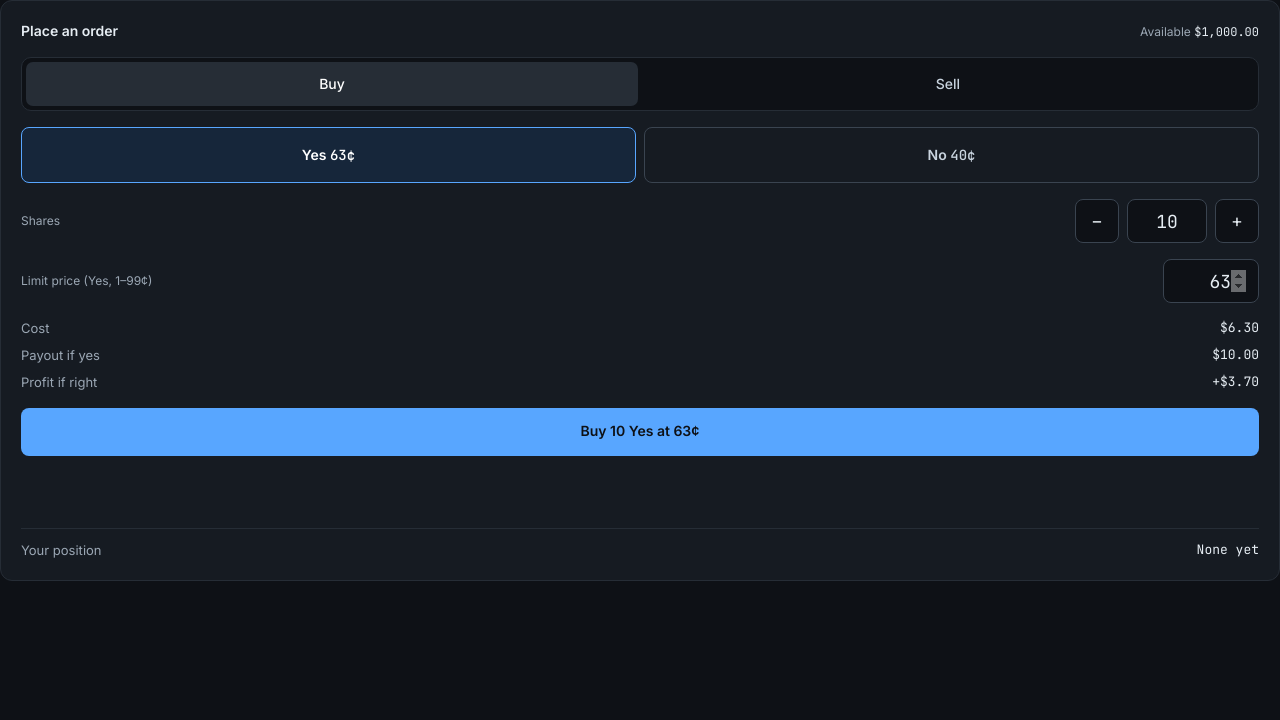
OrderTicket › switching to NO prices off the best bid (100 - 60)
Click the button with test id "ticket-side-no": x=952, y=155 [644,127,1259,183]
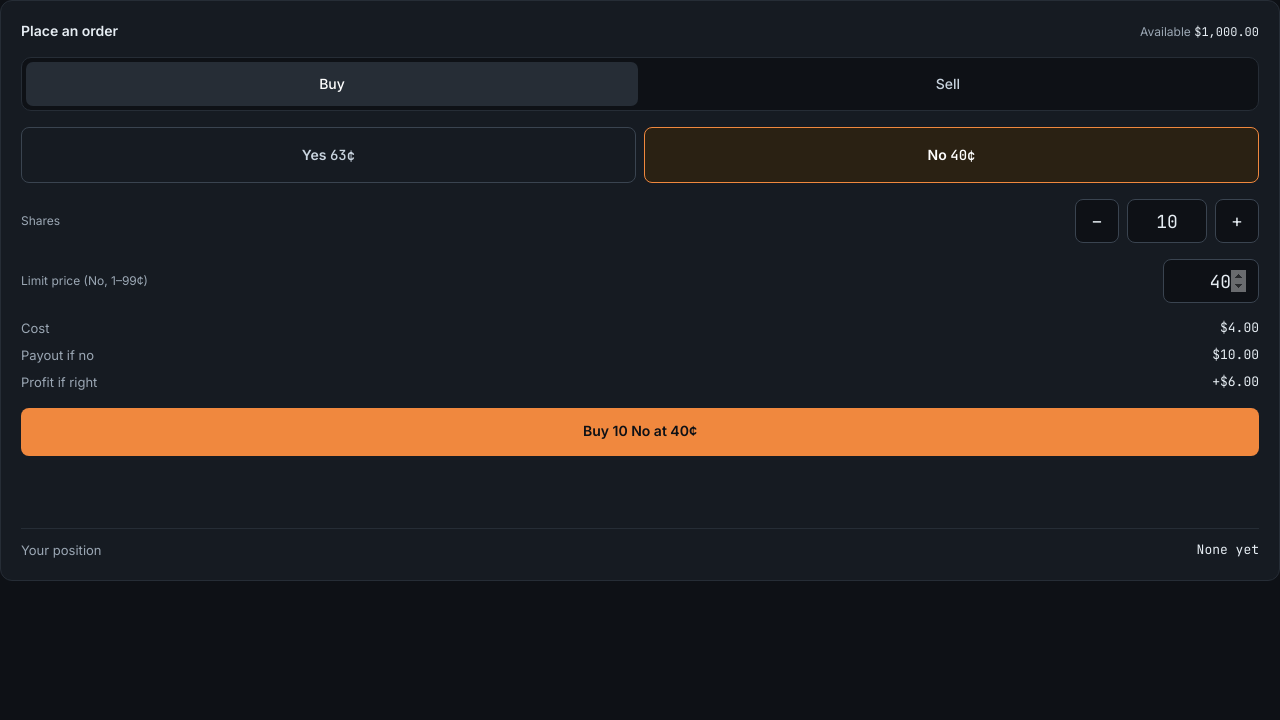
Result: the number field with test id "ticket-price" holds "40" at [1163,259,1259,303]
Result: the button with test id "ticket-submit" reads "Buy 10 No at 40¢" at [21,408,1259,456]
